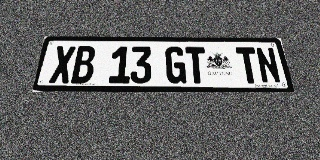1: (109, 46, 131, 83)
3: (130, 46, 151, 83)
B: (71, 46, 96, 83)
G: (165, 47, 186, 83)
N: (255, 47, 282, 84)
T: (235, 47, 261, 84), (185, 47, 208, 83)
X: (49, 46, 76, 83)
